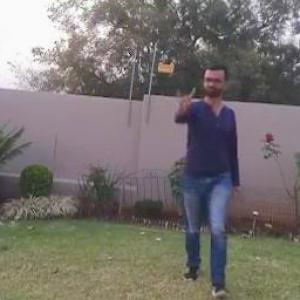takeoff-hand: (170, 84, 198, 122)
